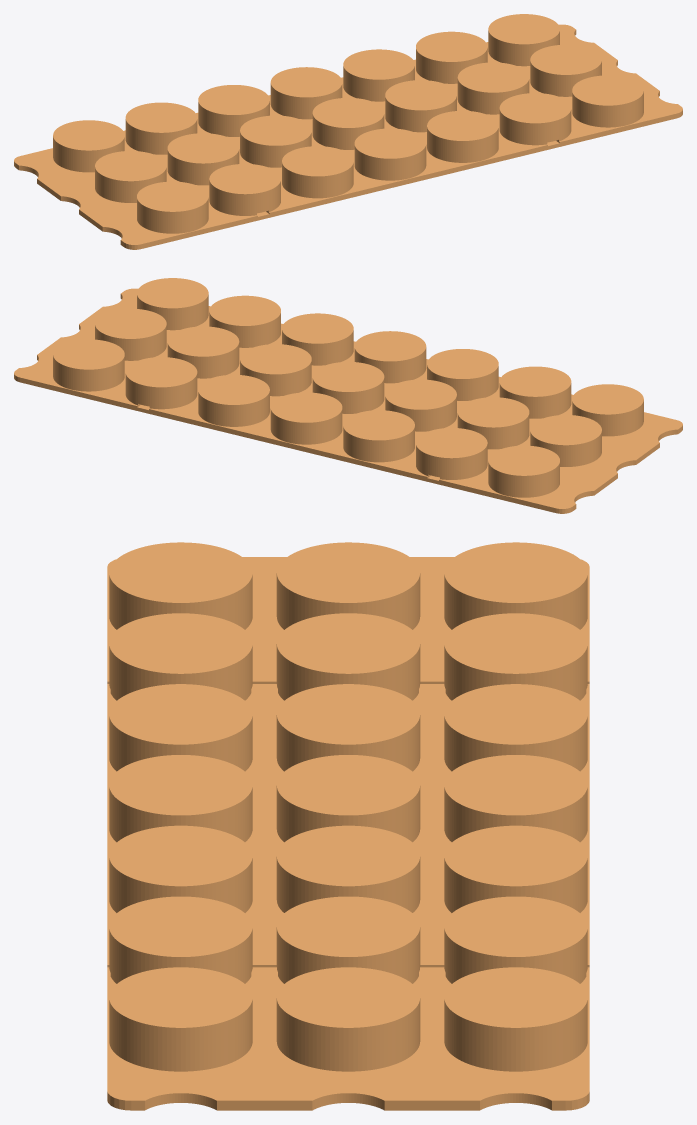
File: skin-windscreen.glb
3 renders of one model, top to bottom at view 1: azimuth 30°, elevation 25°; view 2: azimuth 150°, elevation 25°; view 3: azimuth 270°, elevation 25°, orthographic. The views are drawn at different scales.
Visible parts, largest first — view 1: skin-windscreen; view 2: skin-windscreen; view 3: skin-windscreen.
Boxes of the visible parts, x1,y1,x2,y2 form: skin-windscreen: (14, 14, 682, 249); skin-windscreen: (14, 278, 682, 513); skin-windscreen: (107, 542, 589, 1110).
Size of the model in its own units: 0.096 by 0.0044 by 0.036.
